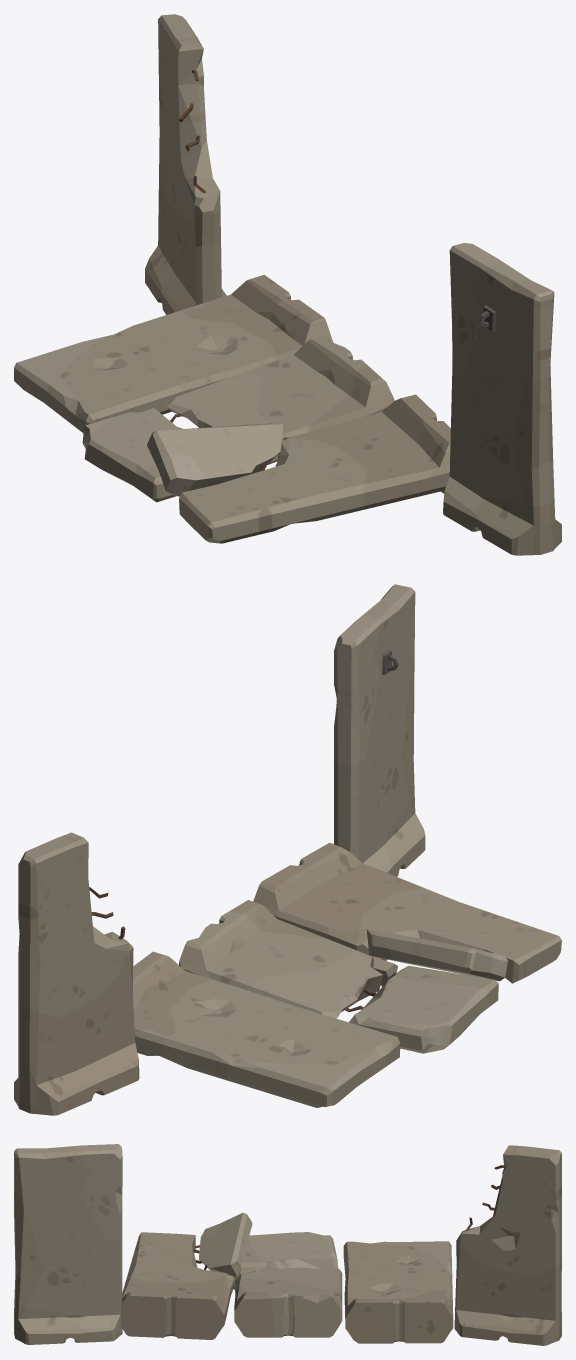
Rendered from SM_Prop_Barrier_Tall_Group_03.glb.
The picture shows the model from 3 angles, top to bottom: view 1: azimuth 30°, elevation 25°; view 2: azimuth 150°, elevation 25°; view 3: azimuth 270°, elevation 25°; orthographic projection. The views are drawn at different scales.
Visible parts, largest first — view 1: SM_Prop_Barrier_Tall_Group_03; view 2: SM_Prop_Barrier_Tall_Group_03; view 3: SM_Prop_Barrier_Tall_Group_03.
Part boxes in pixels (x1,y1,x2,y2): SM_Prop_Barrier_Tall_Group_03: [14, 14, 561, 555]; SM_Prop_Barrier_Tall_Group_03: [14, 584, 561, 1115]; SM_Prop_Barrier_Tall_Group_03: [14, 1144, 561, 1345].
Size of the model in its own units: 3.7 by 3.27 by 8.75.
1 material, 1 textured.
